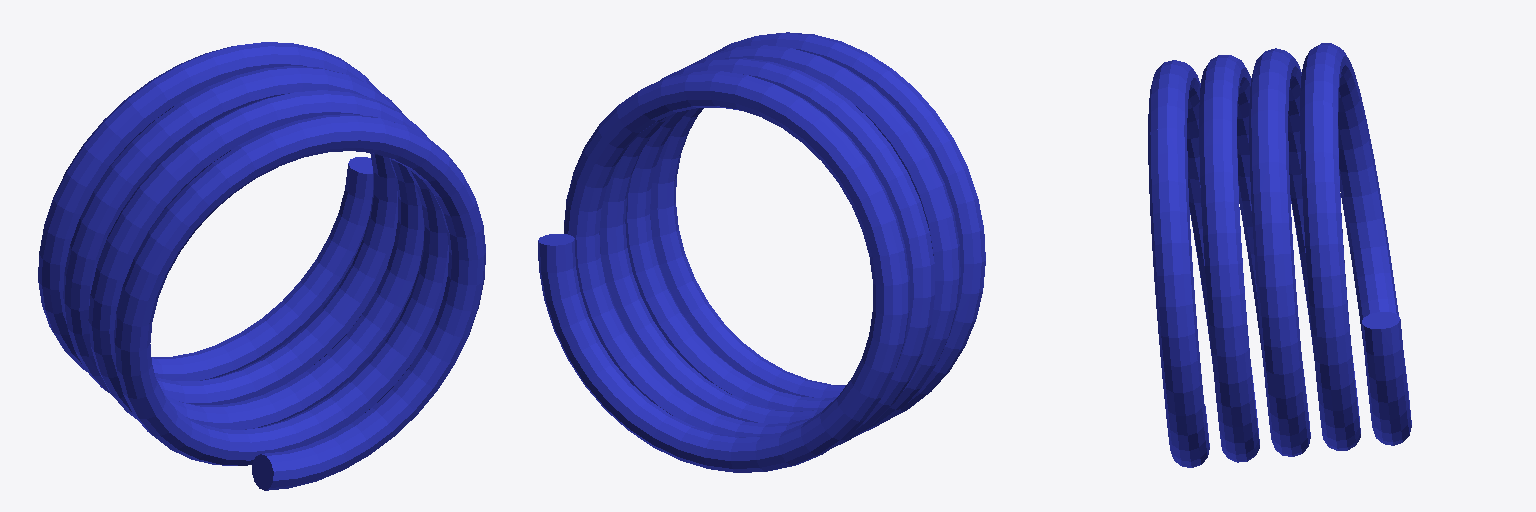
3 views of the same model, side by side, from view 1: azimuth 30°, elevation 25°; view 2: azimuth 150°, elevation 25°; view 3: azimuth 270°, elevation 25° (orthographic).
Parts seen in each view (by area): view 1: ARCHMODELS_47_050_24; view 2: ARCHMODELS_47_050_24; view 3: ARCHMODELS_47_050_24.
Part boxes in pixels (bbox=[...]): ARCHMODELS_47_050_24: bbox=[38, 42, 485, 490]; ARCHMODELS_47_050_24: bbox=[538, 32, 985, 472]; ARCHMODELS_47_050_24: bbox=[1148, 43, 1411, 467].
Bounding box in the file's own units: 0.0154 × 0.0161 × 0.0099.
1 materials, 1 textured.